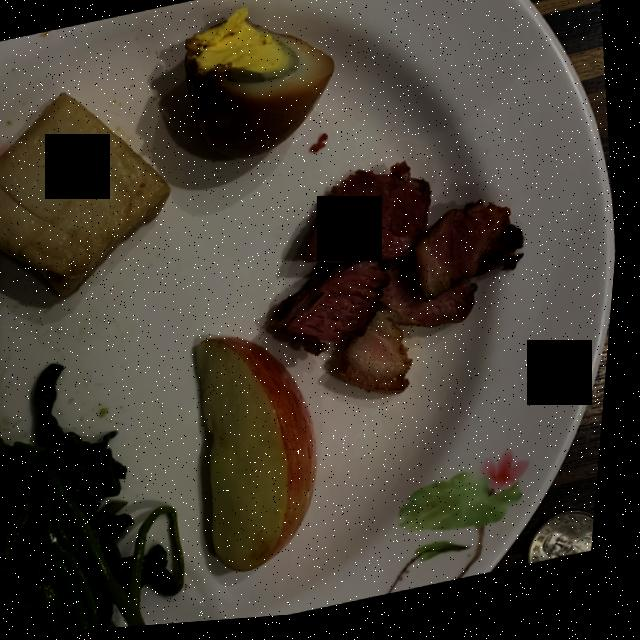apple -sliced-: (202, 341, 325, 576)
coin: (537, 520, 604, 573)
creamy tofu -without sauce-: (0, 94, 173, 299)
grilled pork: (276, 168, 528, 400)
soy egg: (186, 11, 335, 162)
sweet potato leaves: (0, 365, 195, 638)
